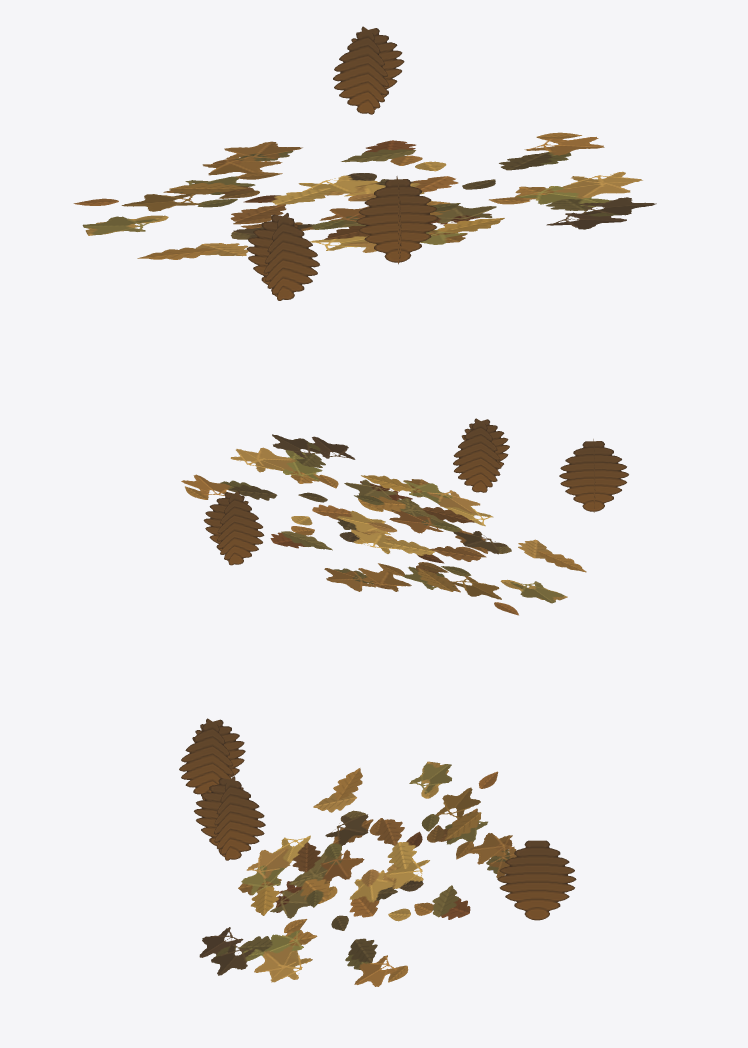
File: Ground Cones.glb
3 renders of one model, top to bottom at view 1: azimuth 30°, elevation 25°; view 2: azimuth 150°, elevation 25°; view 3: azimuth 270°, elevation 25°, orthographic. The views are drawn at different scales.
Visible parts, largest first — view 1: Ground Cones; view 2: Ground Cones; view 3: Ground Cones.
Part boxes in pixels (<box>): Ground Cones: <box>73,26,656,300</box>; Ground Cones: <box>181,418,628,615</box>; Ground Cones: <box>179,718,576,986</box>.
Bounding box in the file's own units: 0.8756 × 0.11 × 0.8756.
1 material, 1 textured.
